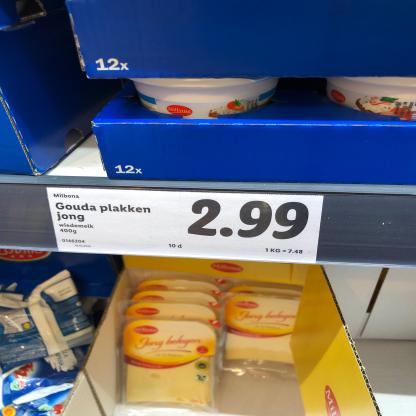prtg: (47, 188, 325, 264)
